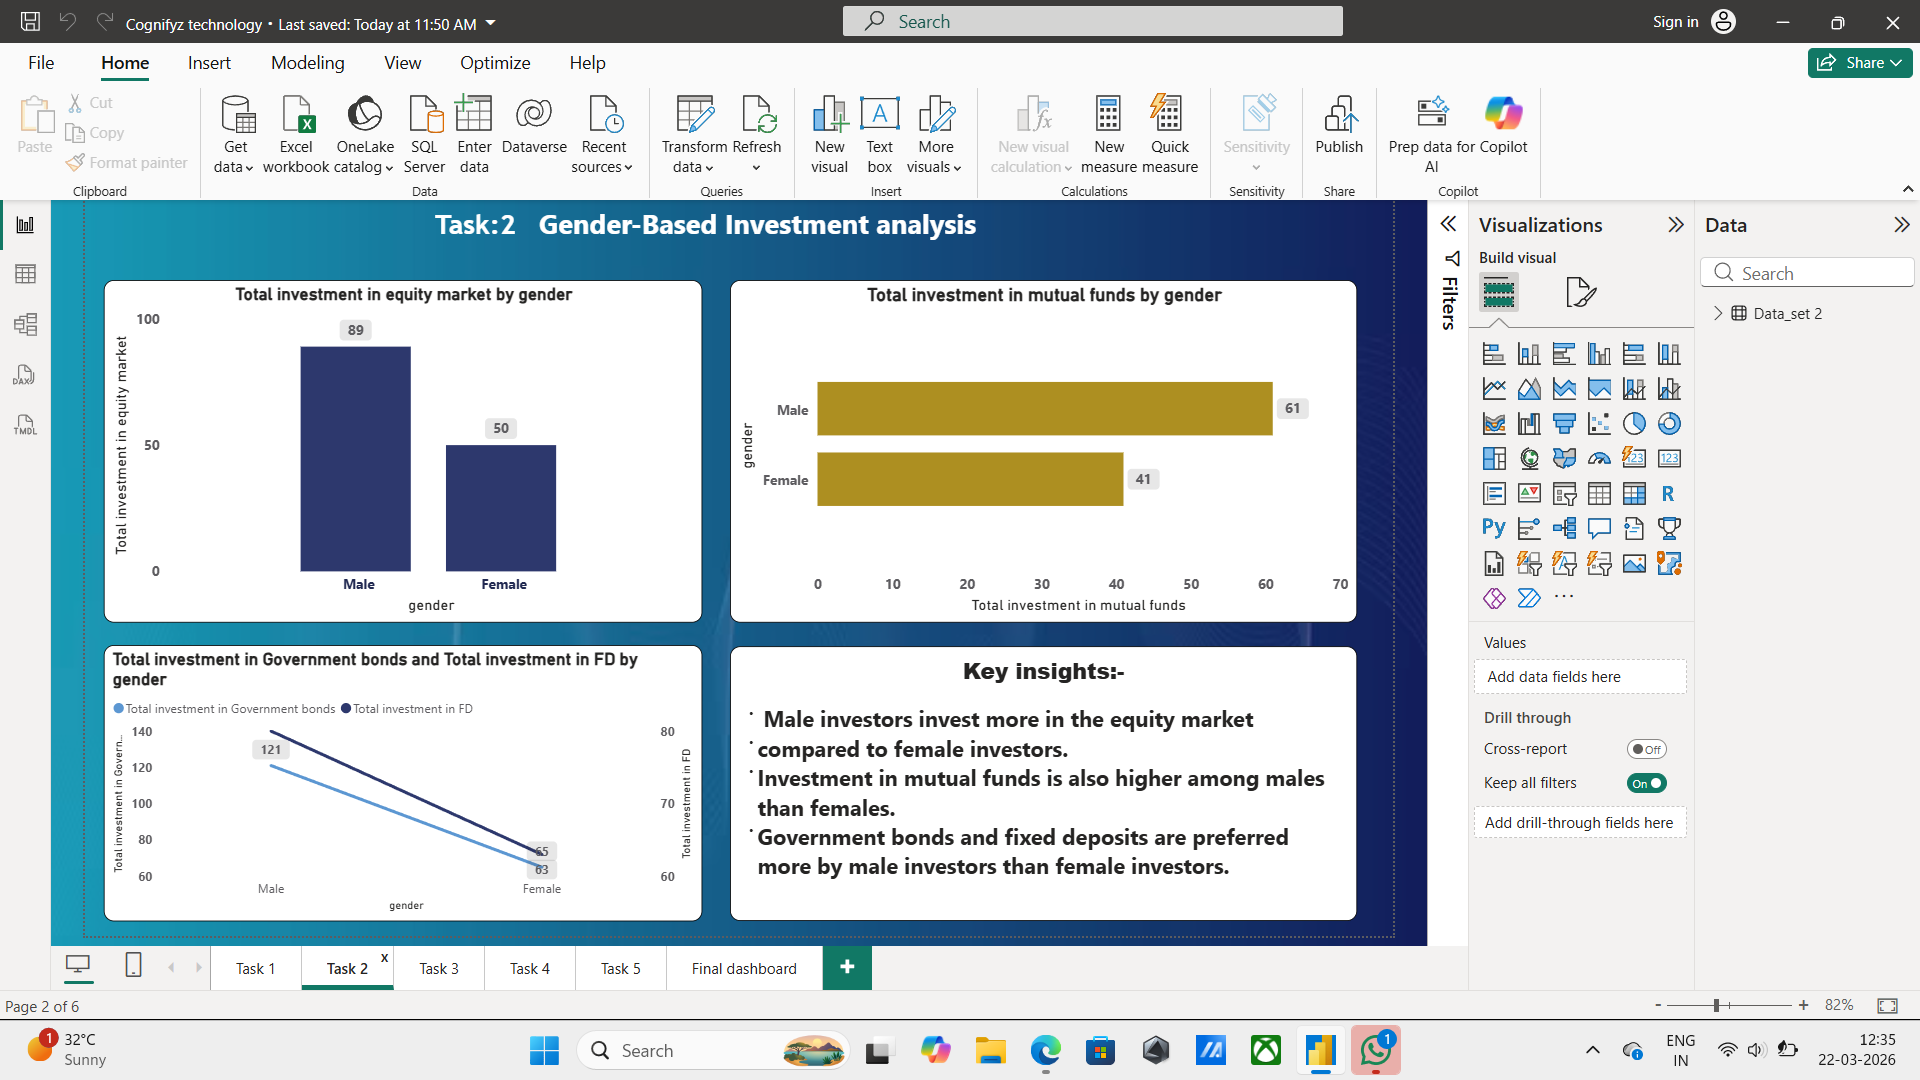

This screenshot's page, from the dashboard's own definition file:
{"tool":"powerbi","page":{"name":"Task 2","canvas":[1280,720],"ordinal":1},"visuals":[{"type":"clusteredColumnChart","fields":{"Category":["Data_set 2.gender"],"Y":["Sum(Data_set 2.Equity_Market)"]},"box":[18.3,78.3,585.7,335.1],"z":0},{"type":"clusteredBarChart","fields":{"Category":["Data_set 2.gender"],"Y":["Sum(Data_set 2.Mutual_Funds)"]},"box":[631,78.3,613.9,335.1],"z":1000},{"type":"lineChart","fields":{"Category":["Data_set 2.gender"],"Y":["Sum(Data_set 2.Government_Bonds)"],"Y2":["Sum(Data_set 2.Fixed_Deposits)"]},"box":[18.3,435.3,585.7,270.2],"z":2000},{"type":"textbox","box":[631,436.6,613.9,269],"z":3000},{"type":"textbox","box":[337.5,0,617.5,50.1],"z":5000}]}

Visuals, with their boxes on the page's 1280x720 design canvas (x1, y1, x2, y2). These are canvas units, not pixel positions in the 1920x1080 screenshot, which may show the page scaled, cropped or inside an application window:
clusteredColumnChart - Data_set 2.gender x Sum(Data_set 2.Equity_Market): (18, 78, 604, 413)
clusteredBarChart - Data_set 2.gender x Sum(Data_set 2.Mutual_Funds): (631, 78, 1245, 413)
lineChart - Data_set 2.gender x Sum(Data_set 2.Government_Bonds): (18, 435, 604, 706)
textbox: (631, 437, 1245, 706)
textbox: (338, 0, 955, 50)
